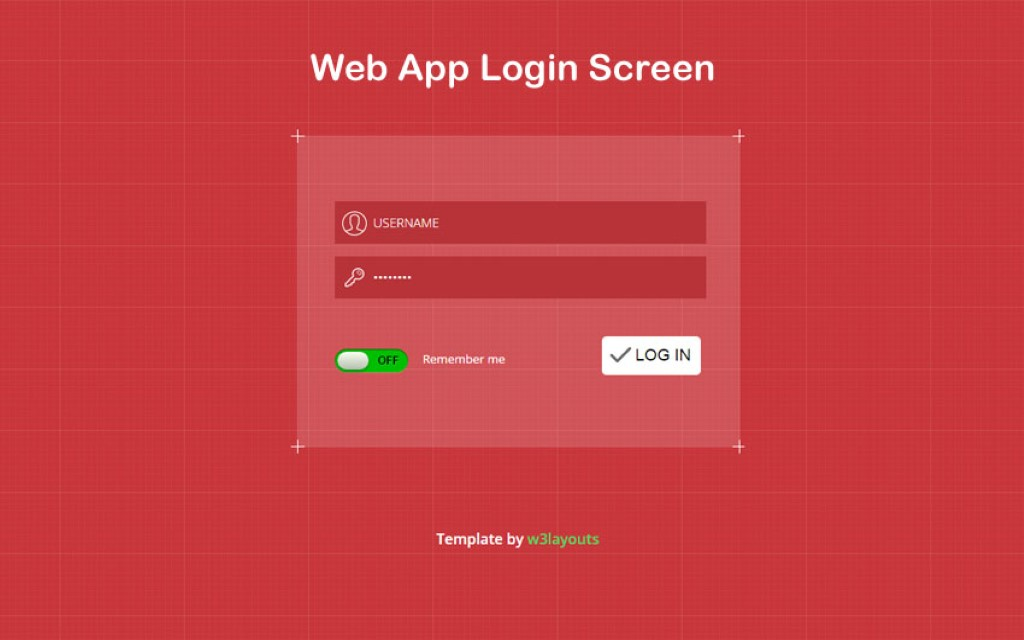button: (602, 336, 702, 373)
label_Username: (372, 213, 441, 231)
label_remember: (419, 348, 507, 370)
textbox: (368, 256, 704, 298), (370, 201, 705, 242)
